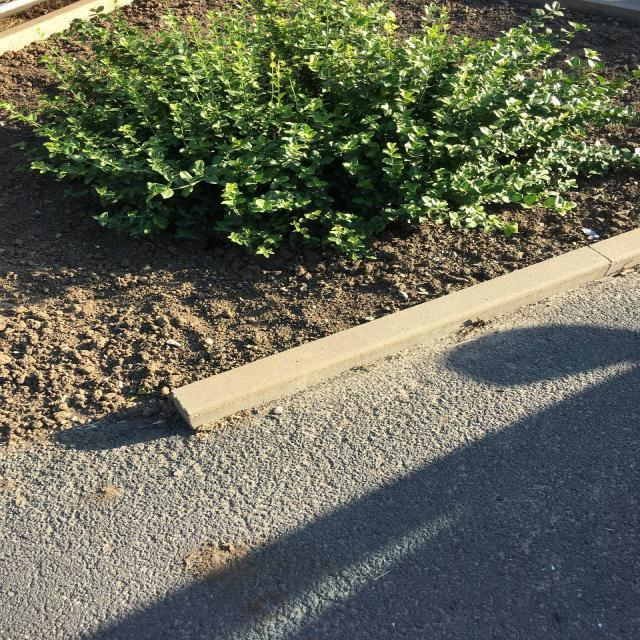bump: (164, 332, 390, 432), (334, 279, 544, 357)
